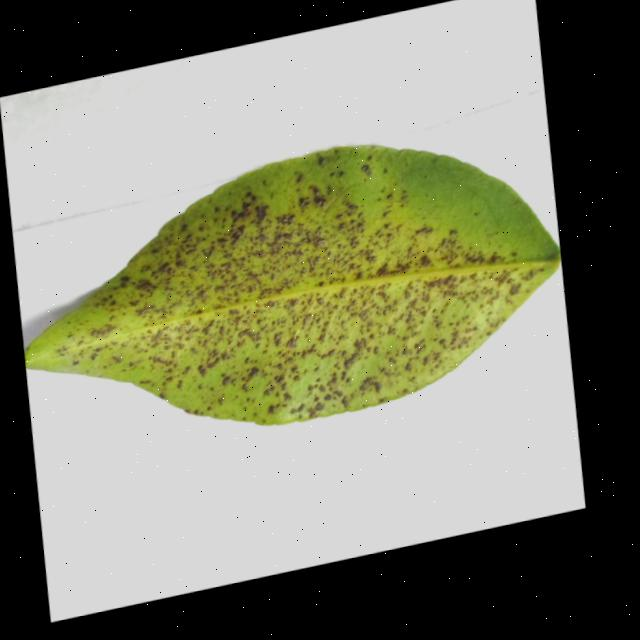melanose: (26, 146, 560, 425)
